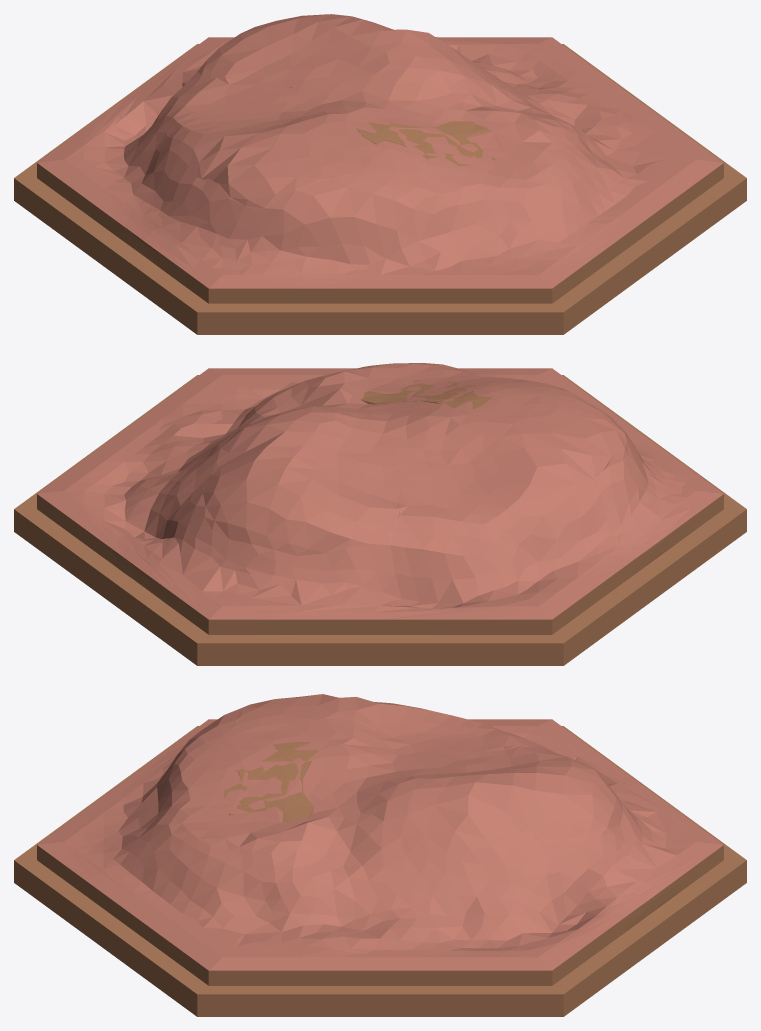
The model's file is HexLehm.glb.
The picture shows the model from 3 angles, top to bottom: view 1: azimuth 30°, elevation 25°; view 2: azimuth 150°, elevation 25°; view 3: azimuth 270°, elevation 25°; orthographic projection.
Parts seen in each view (by area): view 1: Stone; view 2: Stone; view 3: Stone.
Part boxes in pixels (bbox=[...]): Stone: bbox=[14, 14, 746, 334]; Stone: bbox=[14, 363, 746, 665]; Stone: bbox=[14, 694, 746, 1016].
Bounding box in the file's own units: 6.93 × 1.59 × 8.
